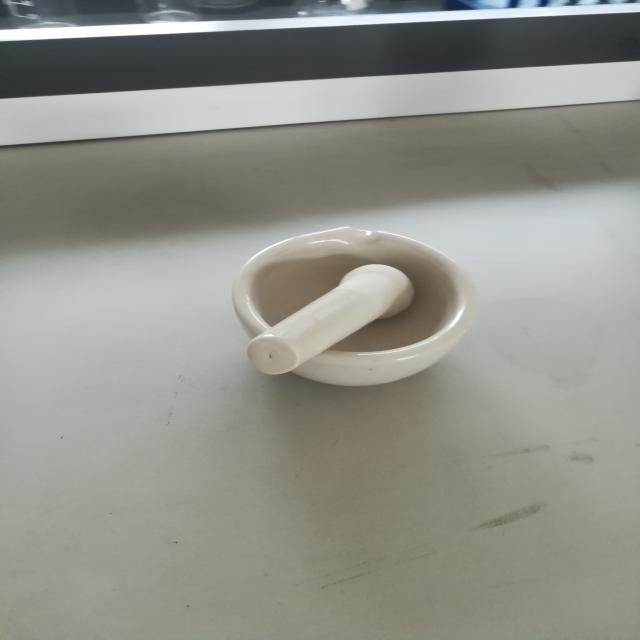Porcelain_Mortar Pestle: (172, 163, 506, 470)
